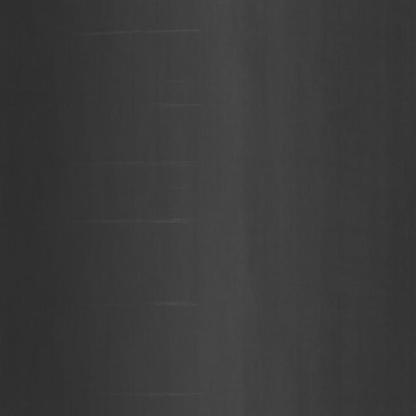waist_folding: (83, 40, 219, 350)
